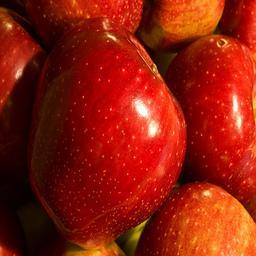apple: (29, 16, 186, 250), (163, 34, 256, 214), (132, 180, 256, 256)
